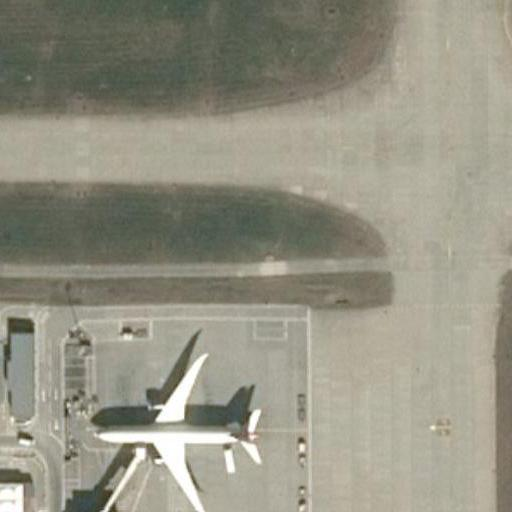Aircraft: (91, 343, 265, 512)
